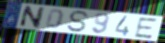0: (45, 8, 66, 31)
4: (114, 15, 130, 37)
9: (91, 12, 110, 35)
E: (132, 16, 160, 40)
N: (19, 5, 47, 29)
S: (67, 10, 92, 33)
